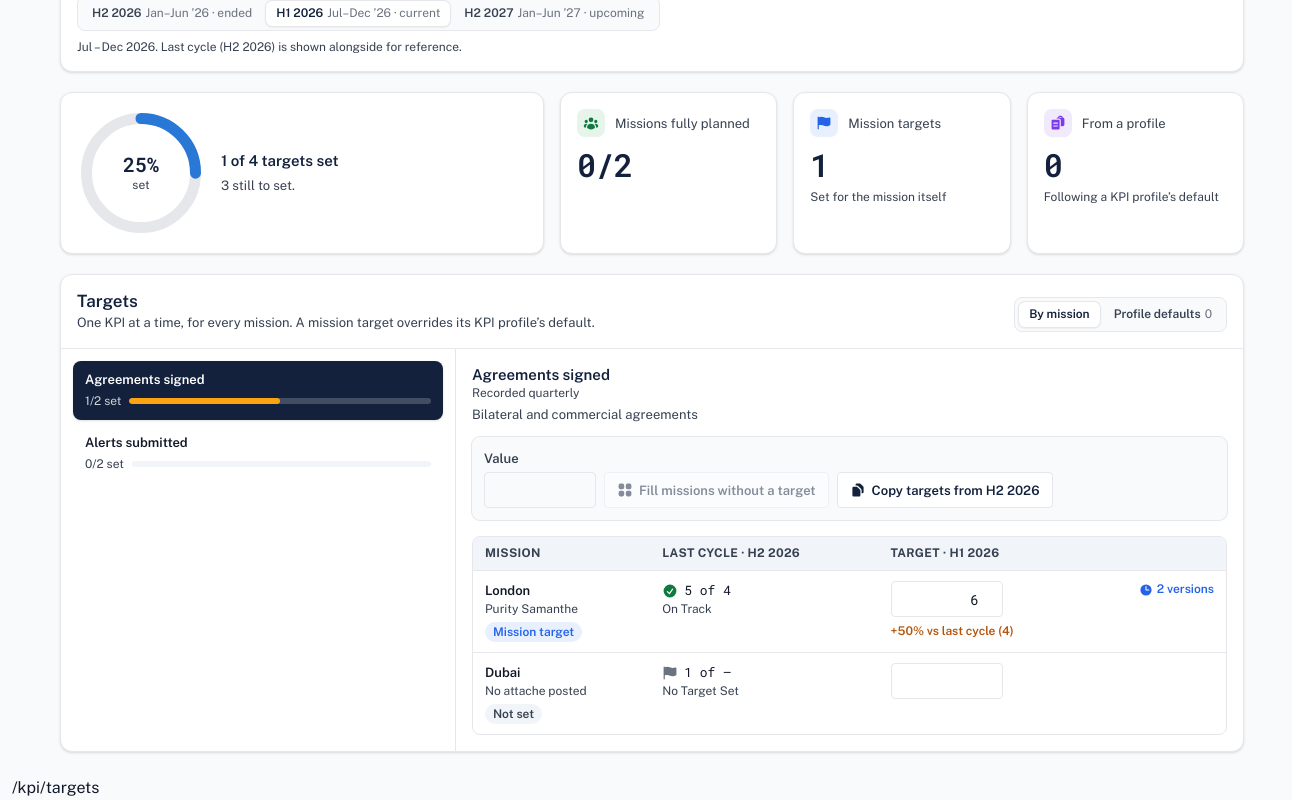
Test case: SetKpiTargetsPage › validates each target before it can be saved
The image size is (1292, 800).
(page scrolled)
Expected: the row with test id "kpi-target-row-mission-dubai" is shown, left=473, top=653, right=1226, bottom=734
In the number field named "Target for Dubai, Agreements signed": (947,681) left=891, top=663, right=1003, bottom=699, type "0"
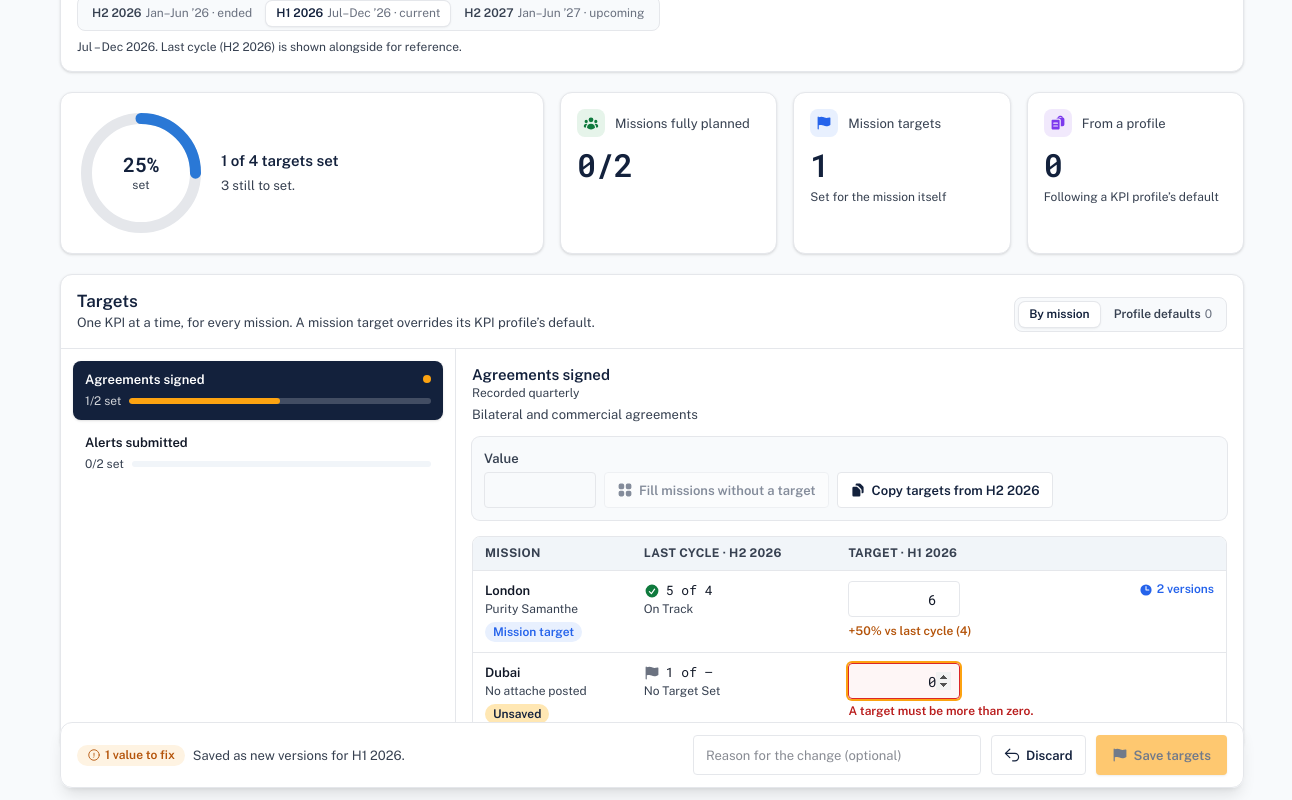
Expected: the text "A target must be more than zero." is shown, left=848, top=704, right=1033, bottom=718
Expected: the text "1 value to fix" is shown, left=77, top=745, right=185, bottom=765
Expected: the button with test id "kpi-targets-save" is disabled, left=1096, top=735, right=1227, bottom=775
